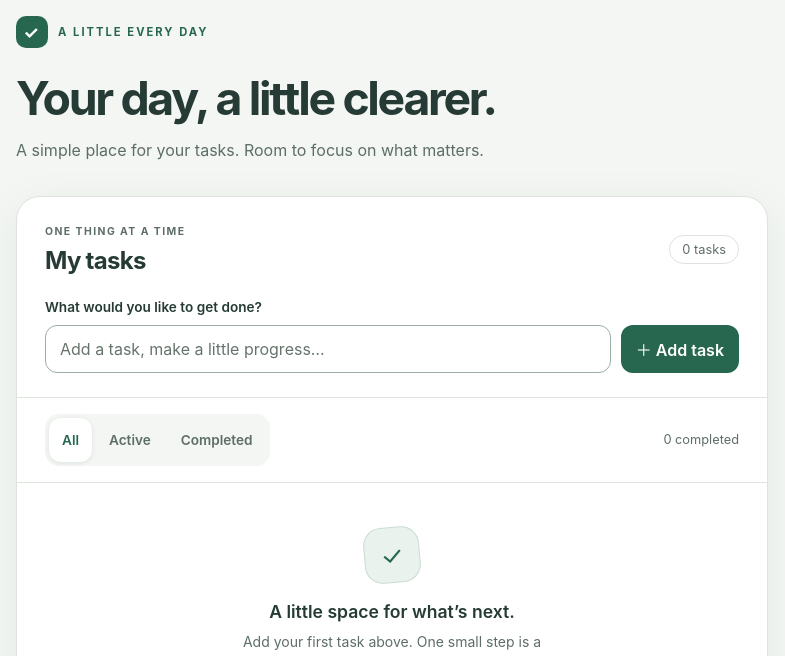
todo app › keeps focus on the next task when completion removes an active row
Step 1. Type "First" into the field labelled "What would you like to get done?" → (328, 349), box [45,325,611,373]
Then press Enter
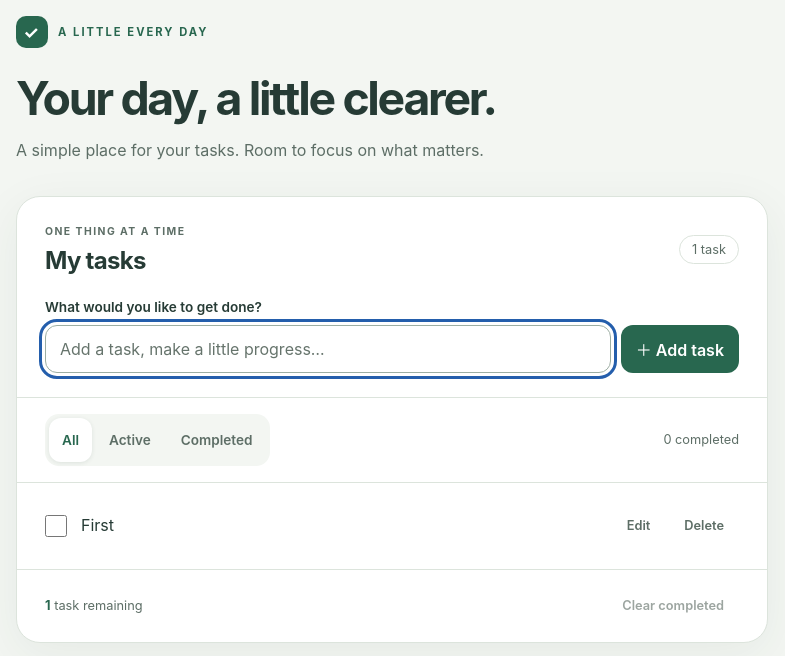
Step 2. Type "Second" into the field labelled "What would you like to get done?" → (328, 349), box [45,325,611,373]
Then press Enter
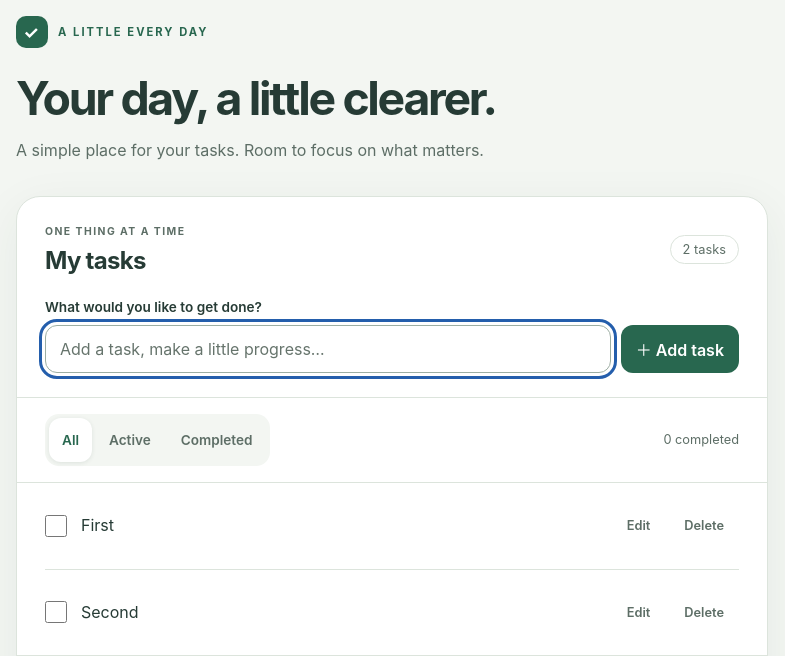
Step 3. Click the button "Active" → (130, 440), box [96,418,164,462]
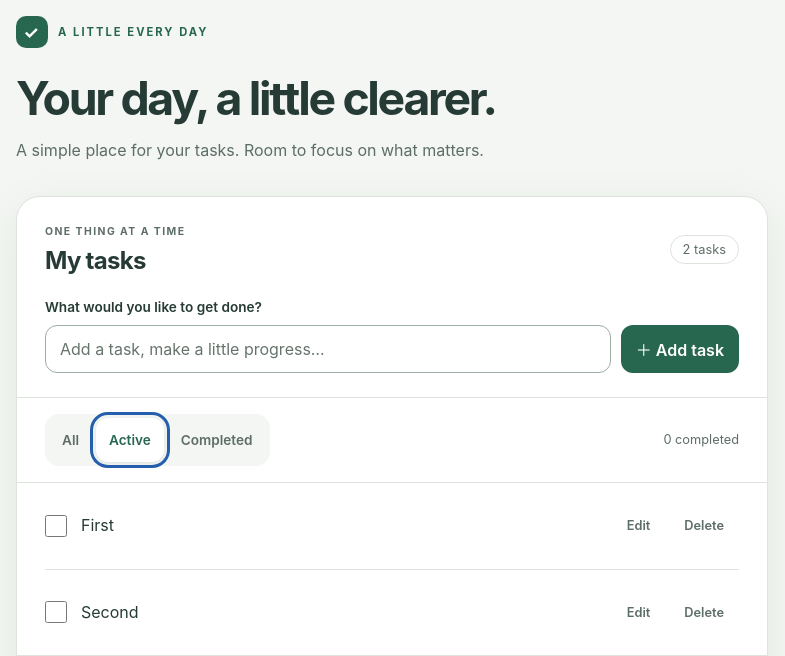
Step 4. Click the checkbox labelled "First" → (56, 526), box [45,515,67,537]
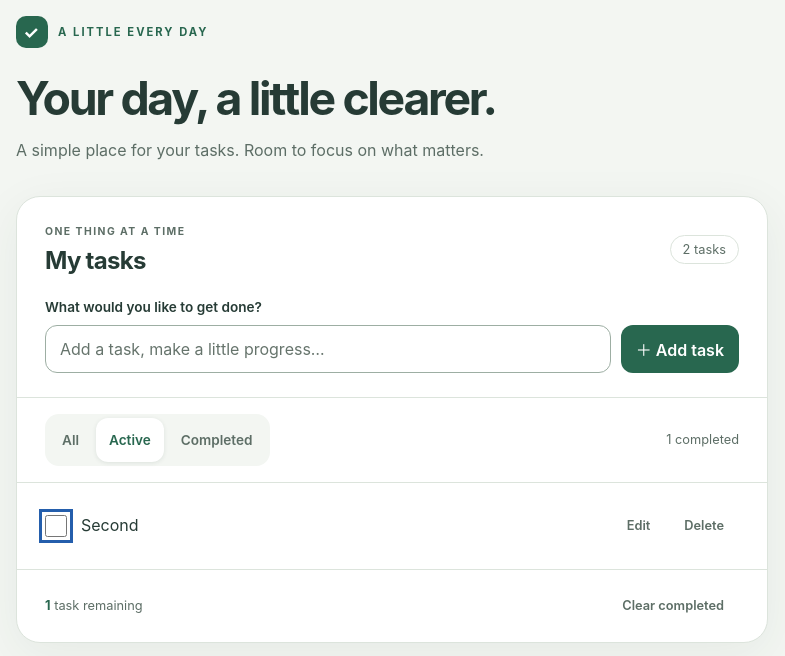
Now the text "1 task remaining" is shown, box [45,598,143,613]
